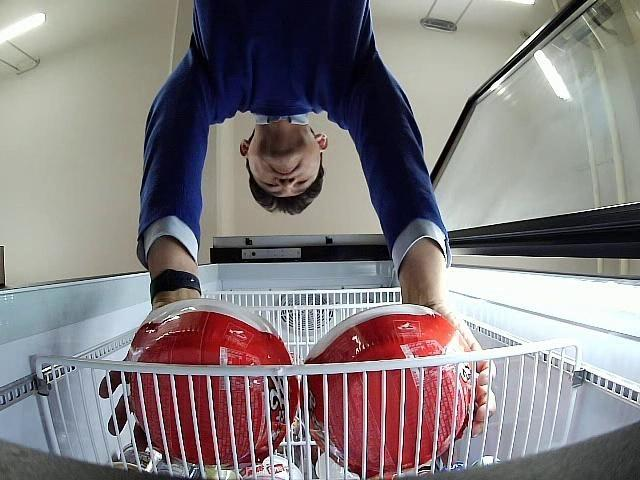10_wangTtukkeong: (300, 304, 477, 477), (128, 299, 300, 468)
